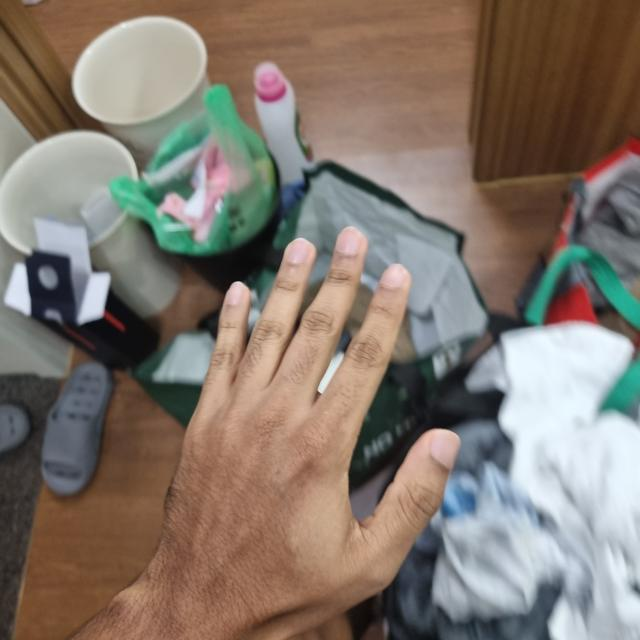Paper: (136, 233, 453, 639)
